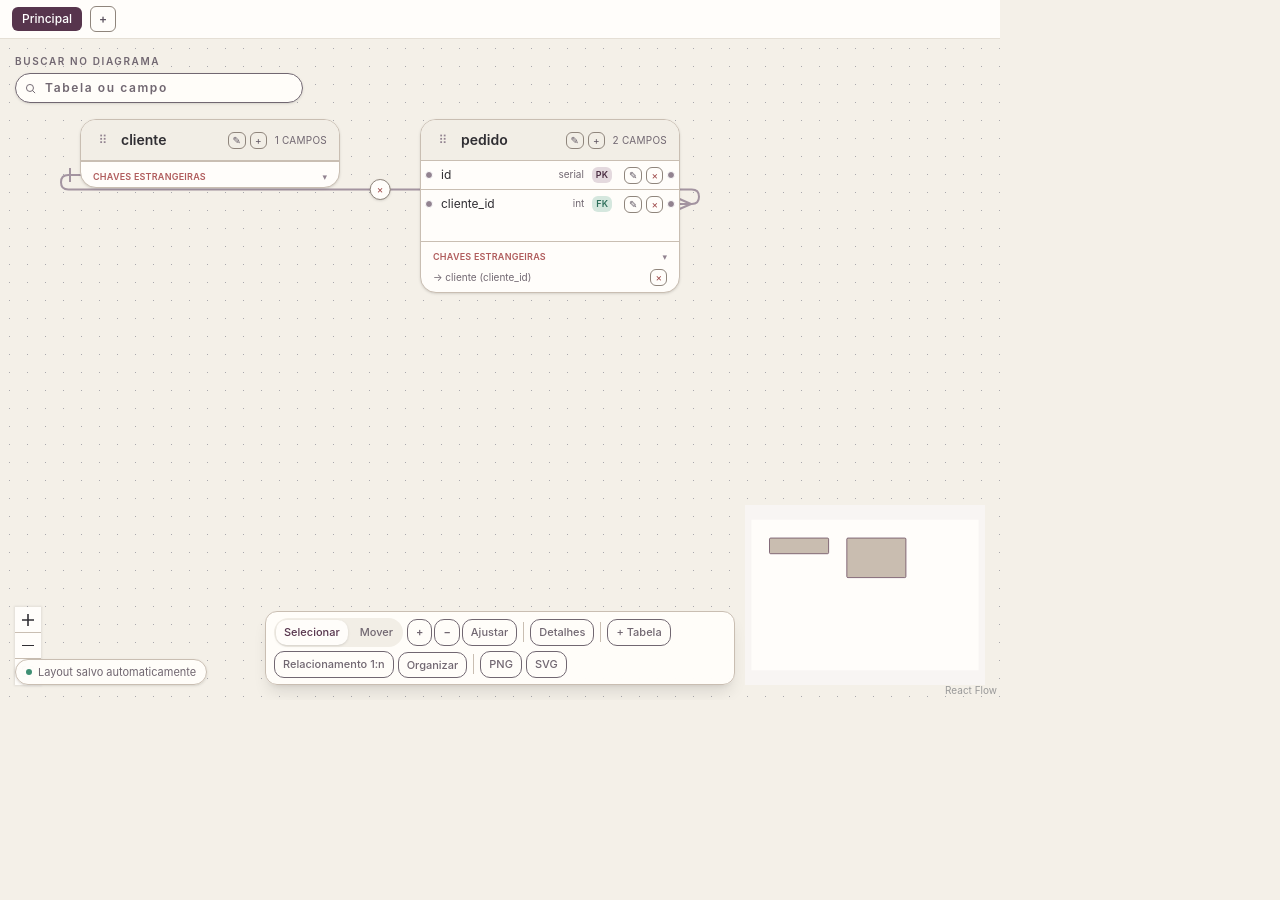
DiagramCanvas editing › popover de tabela renomeia pelo menu Propriedades
Right-click the element with test id "diagram-node-cliente" at x=210, y=154, box [80,119,340,188]
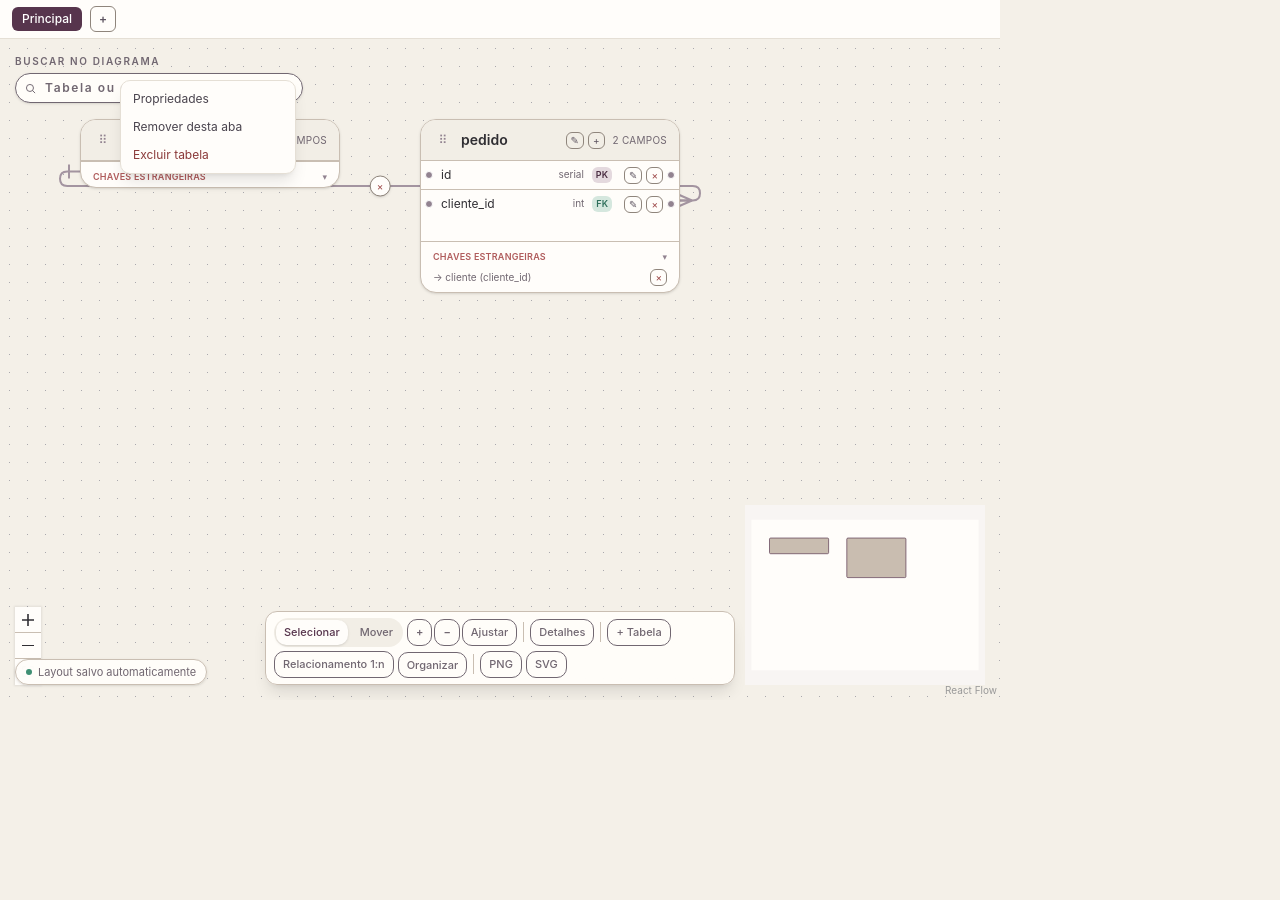
Click the menu item with test id "canvas-menu-properties" at x=208, y=99, box [121,85,295,113]
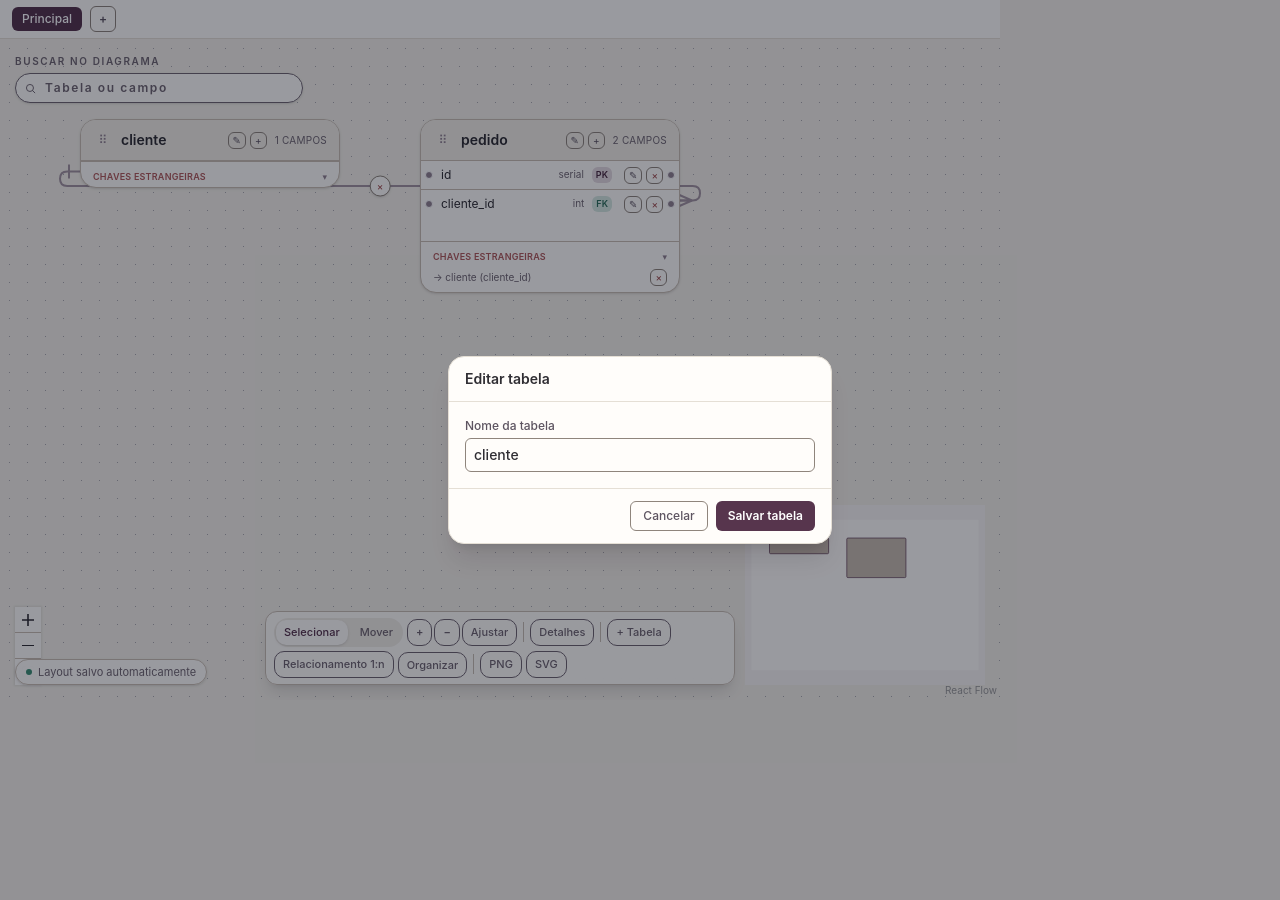
Replace the text in the field labelled "Nome da tabela" with "pedido" at x=640, y=455, box [465,438,815,472]
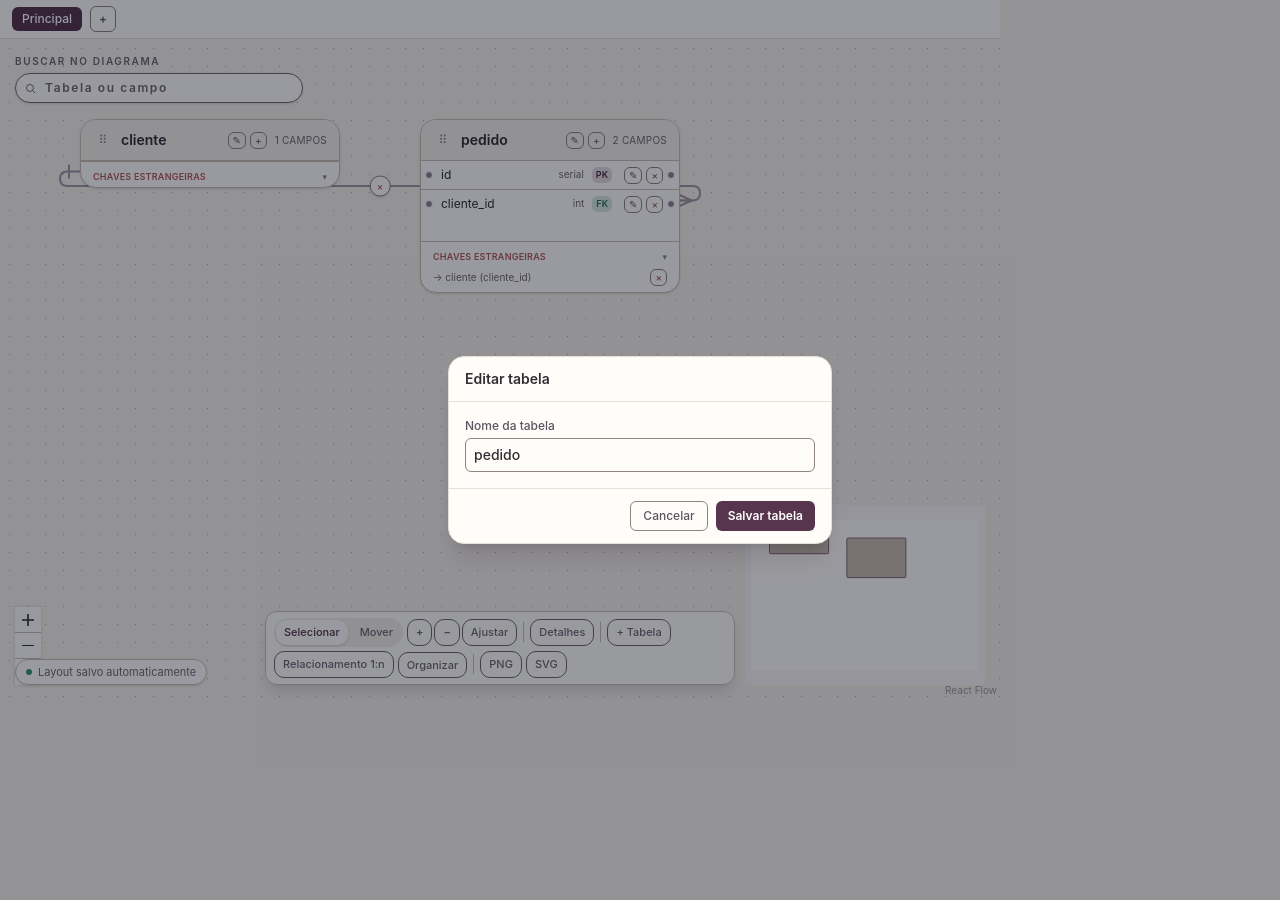
Click the button "Salvar tabela" at x=765, y=516, box [716,501,815,531]
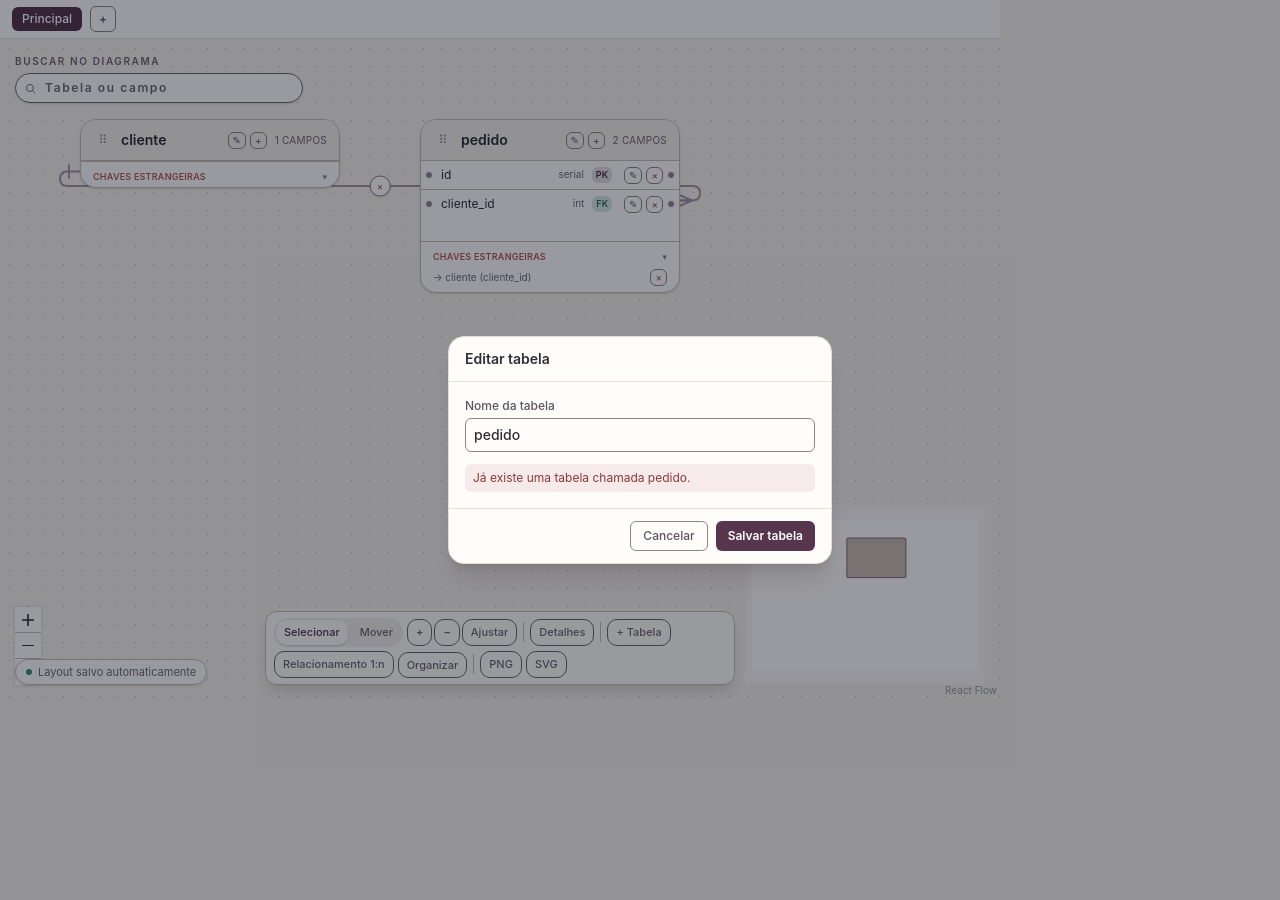
Expected: the message shows "Já existe", [473,470,690,485]
Replace the text in the field labelled "Nome da tabela" with "comprador" at x=640, y=435, box [465,418,815,452]
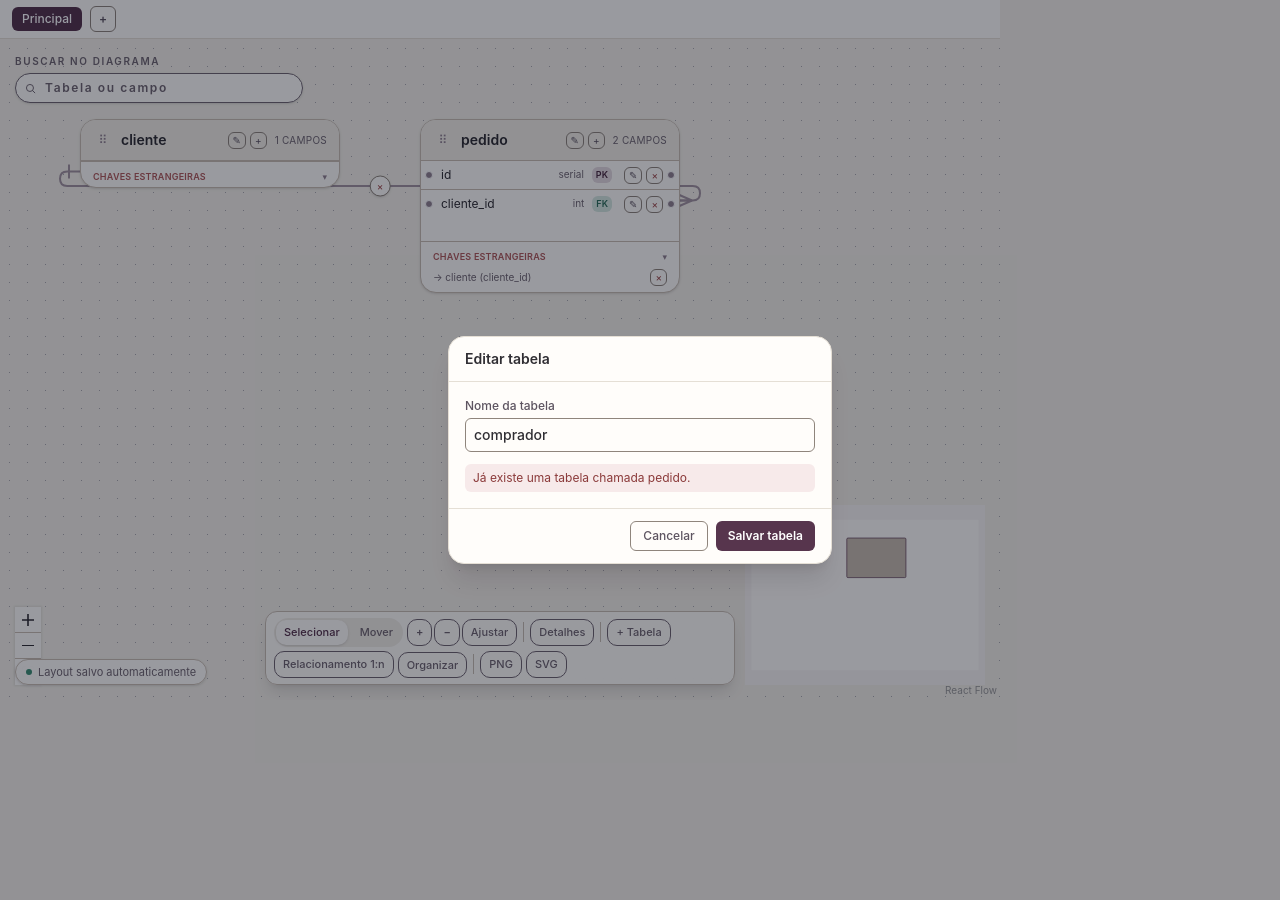
Click the button "Salvar tabela" at x=765, y=536, box [716,521,815,551]
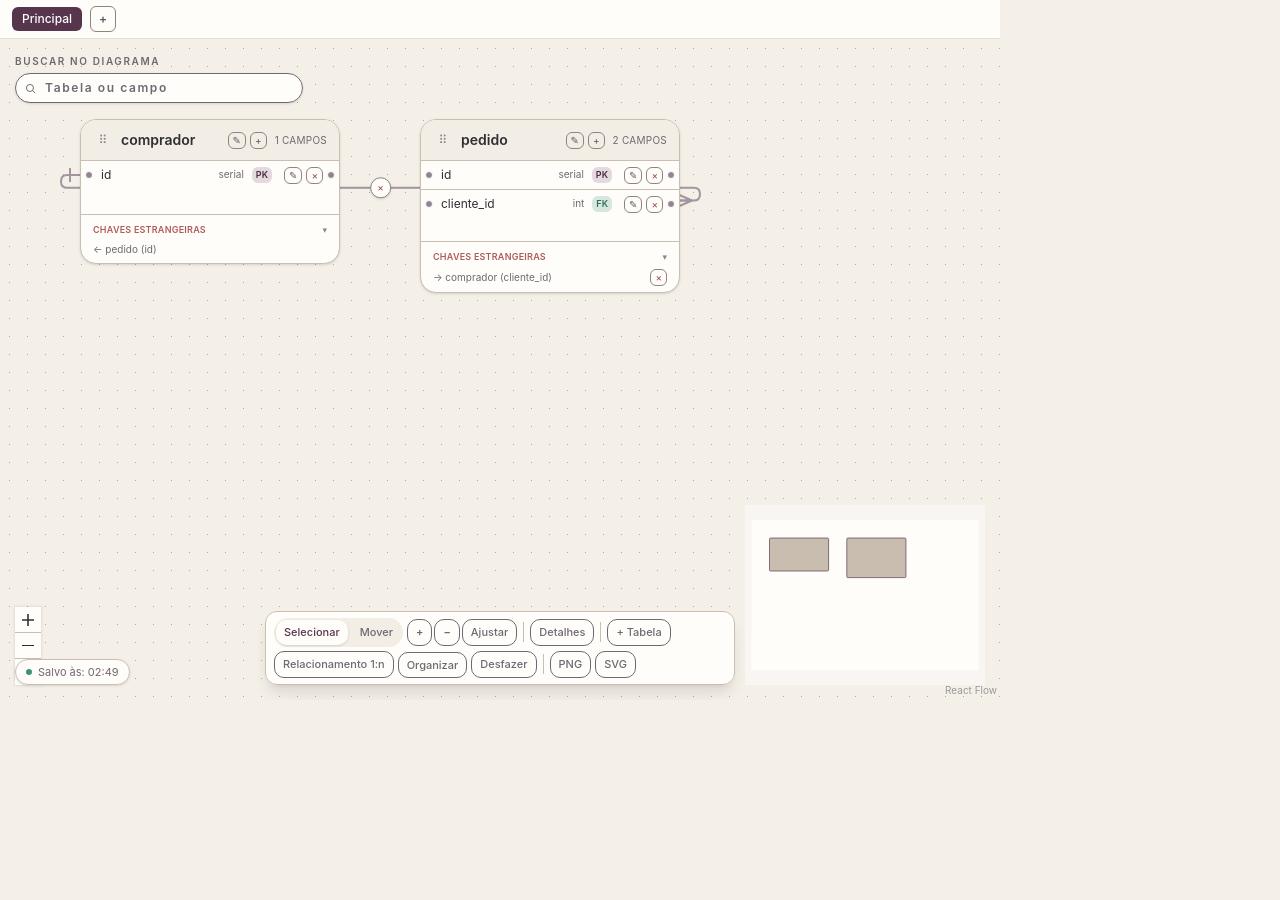
Expected: the button "comprador" is shown, [121,130,220,150]
Expected: the element with test id "diagram-node-comprador" is shown, [80,119,340,264]
Expected: the element with test id "diagram-node-cliente" is gone
